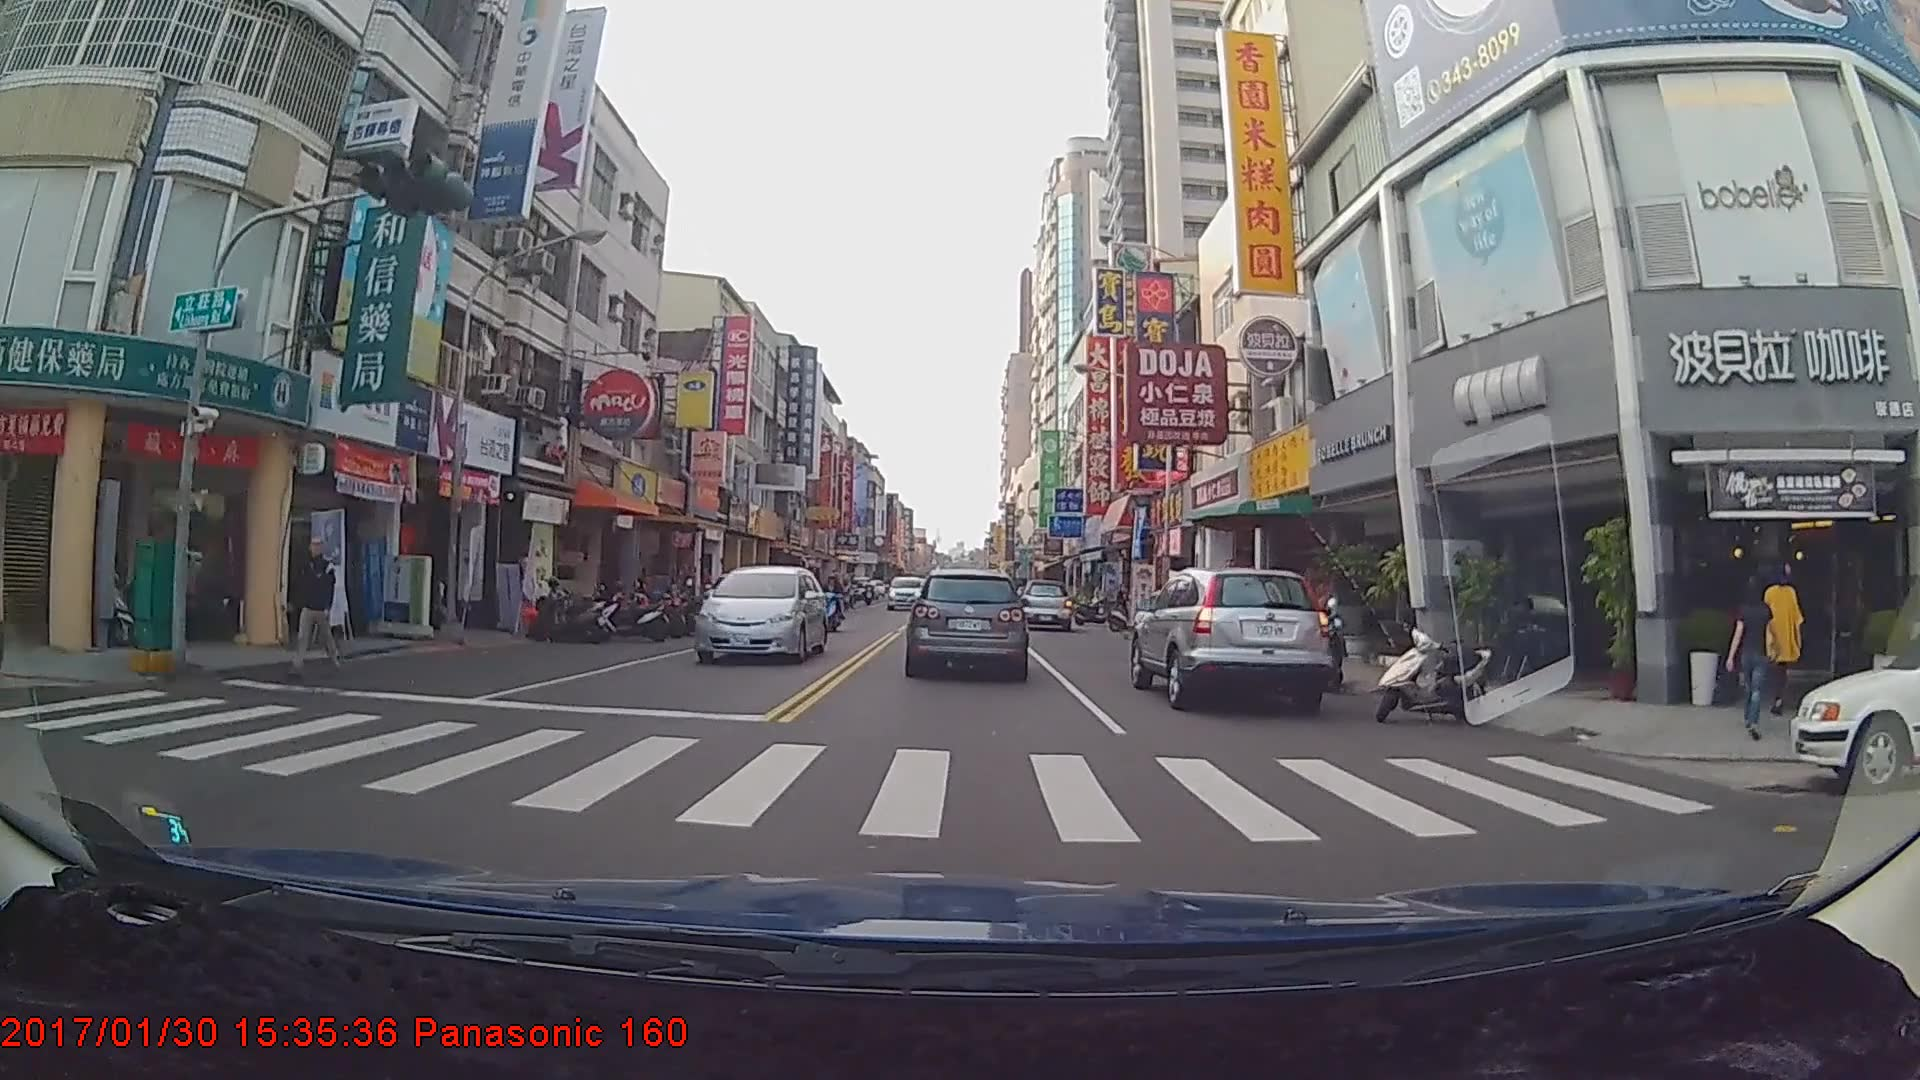pedestrian: (1727, 575, 1780, 741), (287, 535, 345, 678), (1760, 567, 1809, 713)
vehicle: (1129, 564, 1333, 711), (1788, 609, 1920, 797), (695, 563, 830, 665), (905, 566, 1027, 675), (1016, 579, 1070, 630), (884, 574, 925, 611)
